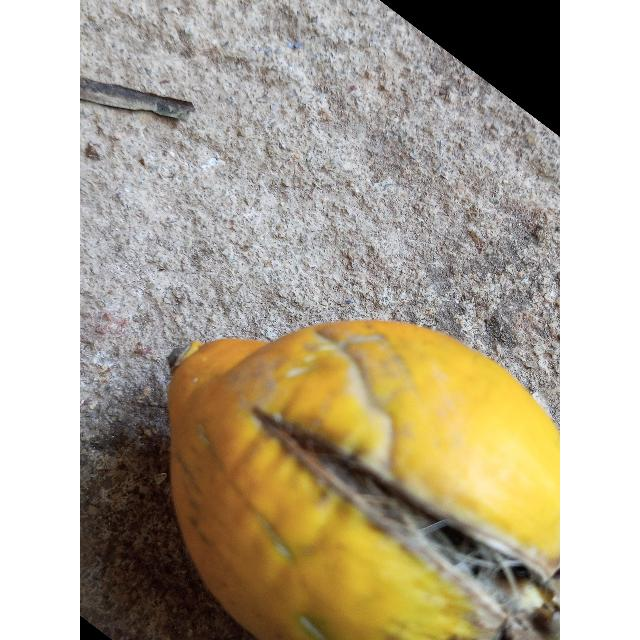damaged: (167, 319, 560, 640)
